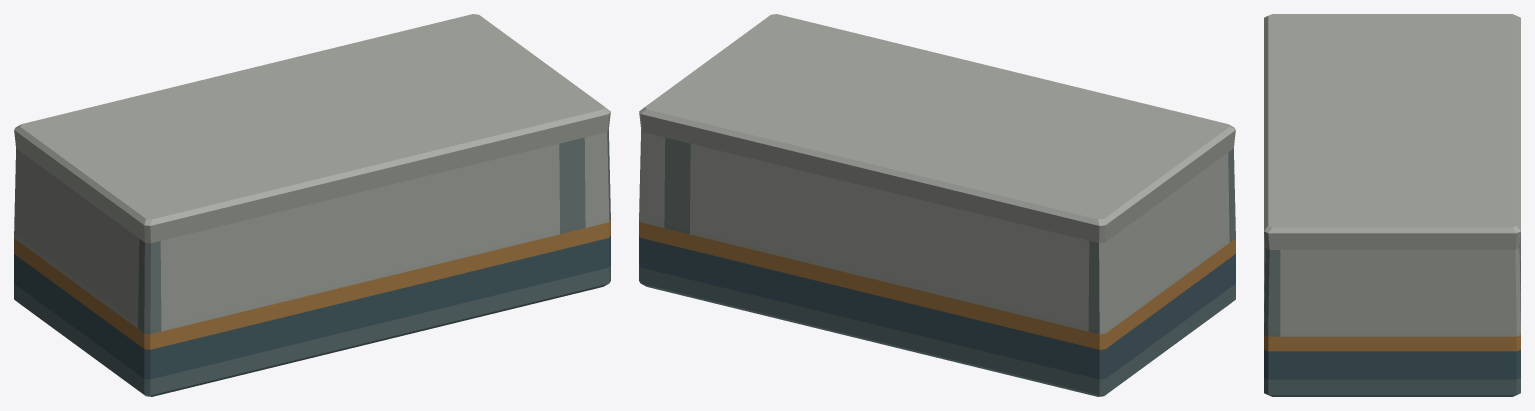
The model's file is low-cover-site.glb.
The picture shows the model from 3 angles, left to right: view 1: azimuth 30°, elevation 25°; view 2: azimuth 150°, elevation 25°; view 3: azimuth 270°, elevation 25°; orthographic projection. The views are drawn at different scales.
Visible parts, largest first — view 1: low-cover-site-export; view 2: low-cover-site-export; view 3: low-cover-site-export.
Boxes of the visible parts, x1,y1,x2,y2 form: low-cover-site-export: (14, 14, 610, 396); low-cover-site-export: (639, 14, 1235, 396); low-cover-site-export: (1264, 14, 1520, 396).
Size of the model in its own units: 2.2 by 0.8 by 1.1.
